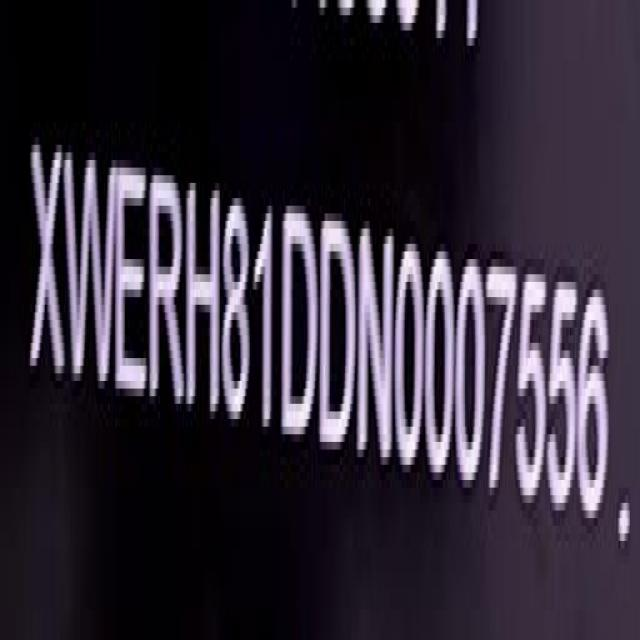0: (450, 257, 488, 491), (422, 240, 457, 488), (392, 232, 424, 472)
1: (254, 197, 275, 446)
5: (515, 251, 547, 508), (549, 265, 577, 519)
6: (578, 282, 610, 522)
7: (486, 254, 516, 497)
8: (222, 186, 248, 424)
D: (318, 215, 358, 443), (282, 206, 318, 443)
E: (112, 155, 146, 409)
H: (185, 178, 221, 423)
N: (358, 232, 395, 468)
R: (146, 178, 185, 415)
W: (64, 150, 116, 400)
X: (31, 144, 65, 404)
